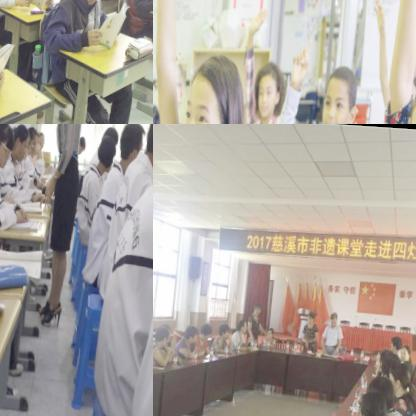head: (178, 56, 248, 124), (153, 52, 190, 117), (319, 64, 356, 124), (253, 55, 285, 118), (117, 124, 146, 162), (373, 371, 402, 407), (365, 384, 393, 416), (98, 130, 119, 170), (0, 124, 16, 167), (14, 125, 32, 163), (102, 124, 122, 150), (392, 361, 412, 387), (384, 352, 404, 376), (156, 325, 174, 348), (26, 124, 40, 153), (185, 322, 203, 344), (401, 338, 414, 359), (77, 129, 88, 153), (202, 321, 216, 338), (393, 330, 405, 349), (35, 126, 44, 150), (222, 321, 234, 336), (240, 315, 251, 329), (332, 307, 342, 322), (255, 301, 265, 315), (40, 128, 47, 146), (309, 308, 318, 321)
